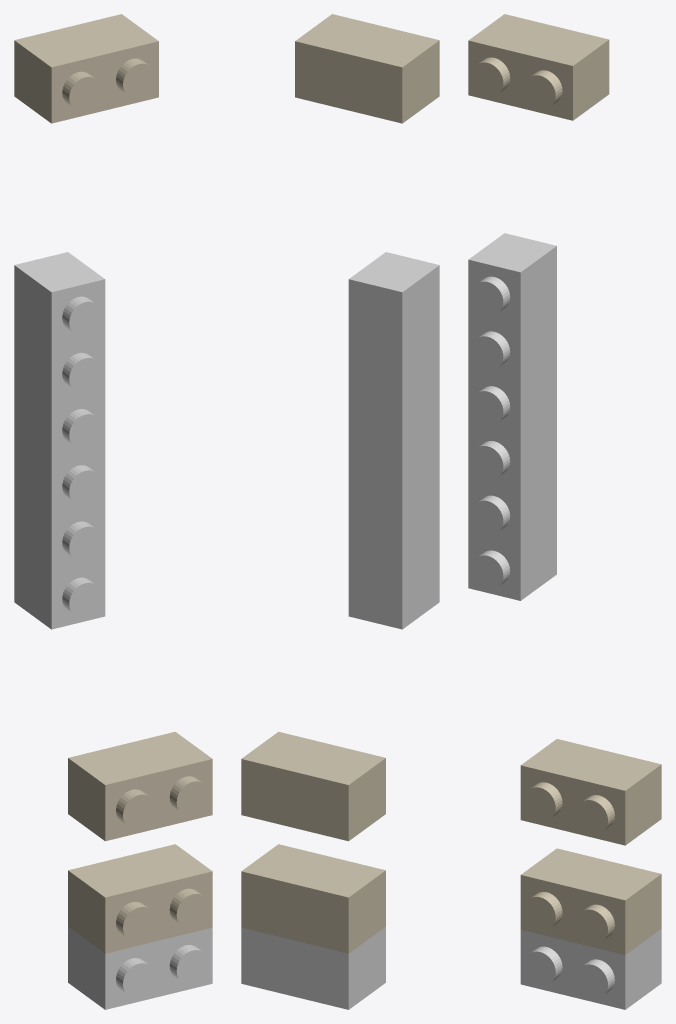
Rendered from current.glb.
3 views of the same model, side by side, from view 1: azimuth 30°, elevation 25°; view 2: azimuth 150°, elevation 25°; view 3: azimuth 330°, elevation 25° (orthographic). The views are drawn at different scales.
Parts seen in each view (by area): view 1: world; view 2: world; view 3: world.
Part boxes in pixels (bbox=[...]): world: bbox=[14, 14, 212, 1009]; world: bbox=[241, 14, 439, 1009]; world: bbox=[468, 14, 661, 1009].
Bounding box in the file's own units: 24 × 136 × 11.4.
